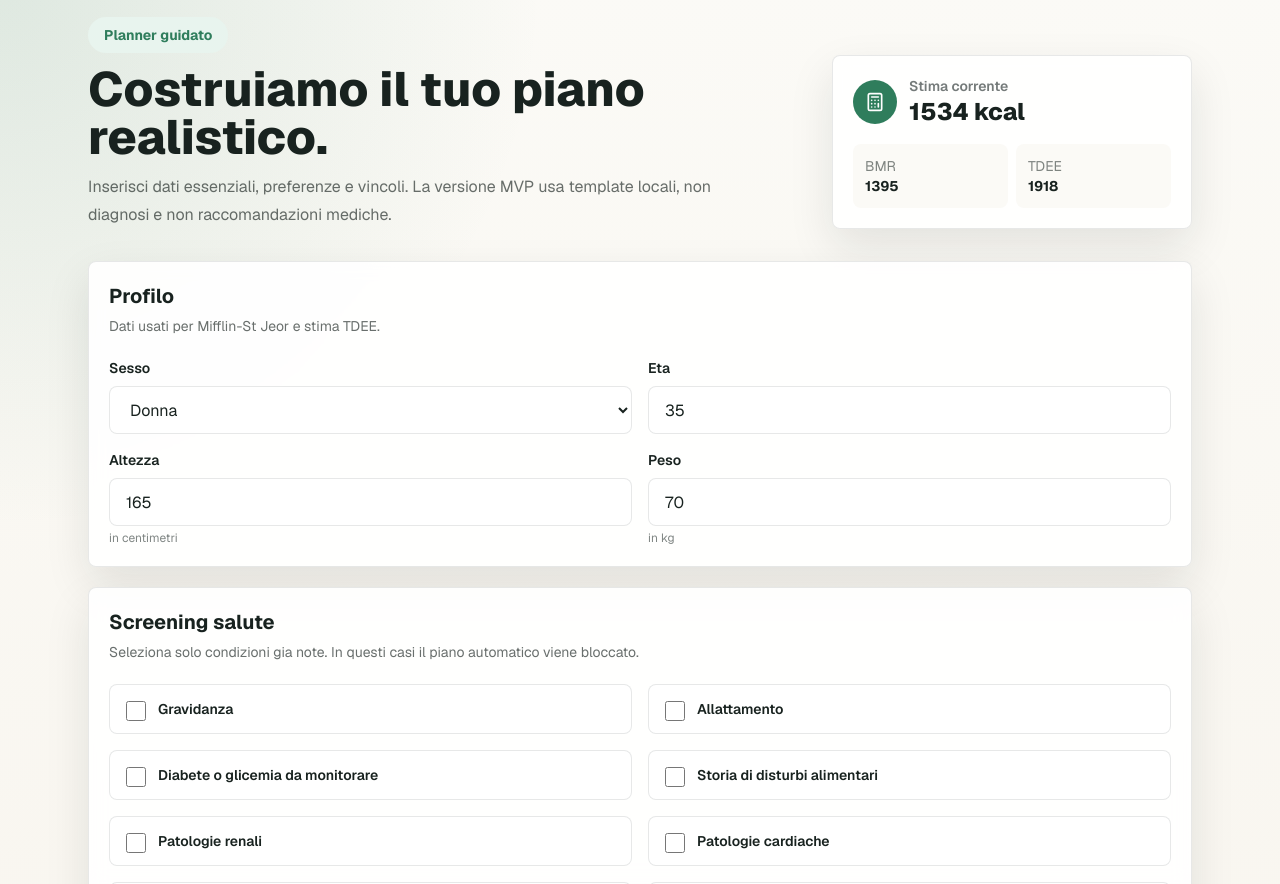
Test: PlannerClient › blocks generation for flagged profiles when the screening mode is block
The image size is (1280, 884).
Expected: the text "il piano automatico viene bloccato" is shown, x1=109 y1=643 x2=639 y2=661
Click the checkbox labelled "Gravidanza" at (136, 711), box x1=126 y1=701 x2=146 y2=721
(page scrolled)
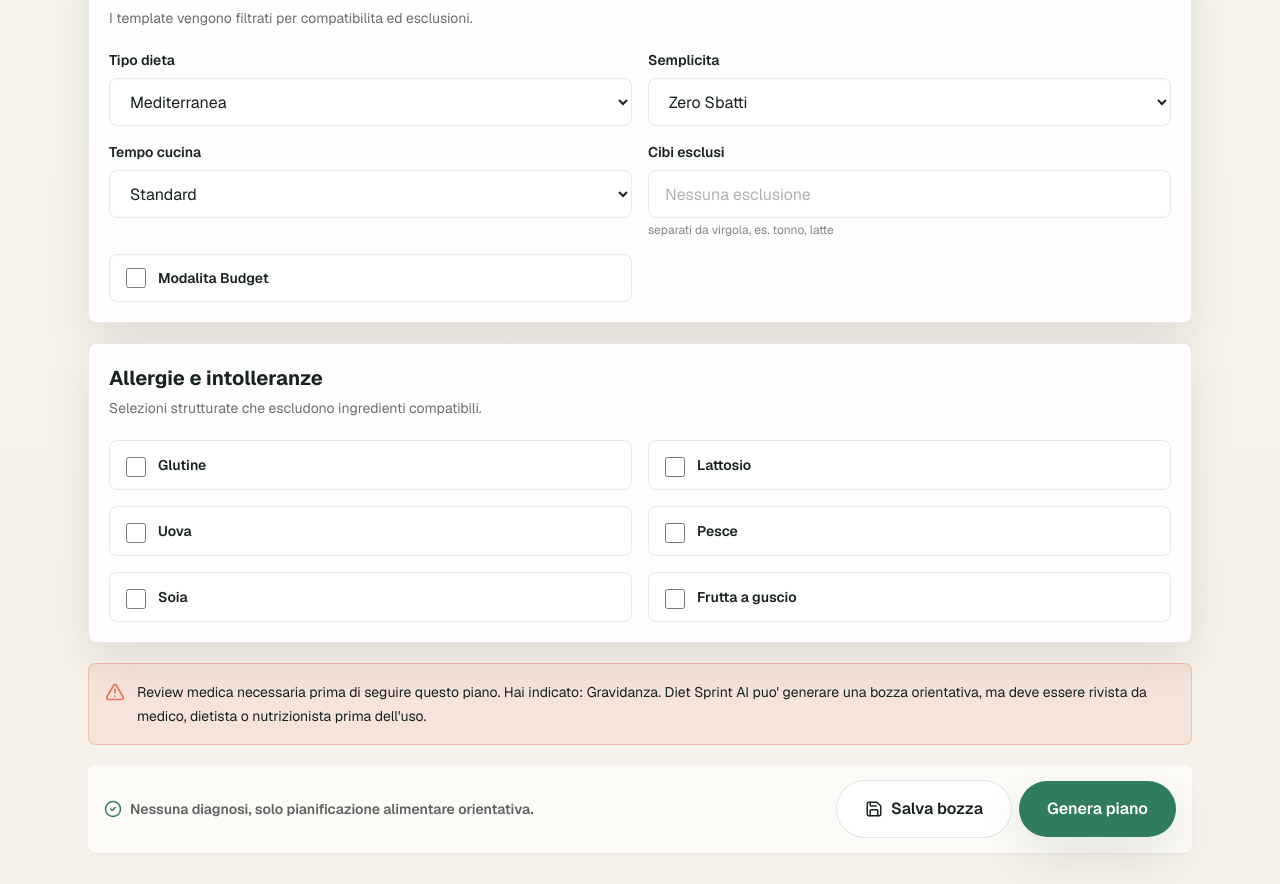
Click the button "Genera piano" at (1098, 809), box x1=1019 y1=781 x2=1176 y2=837
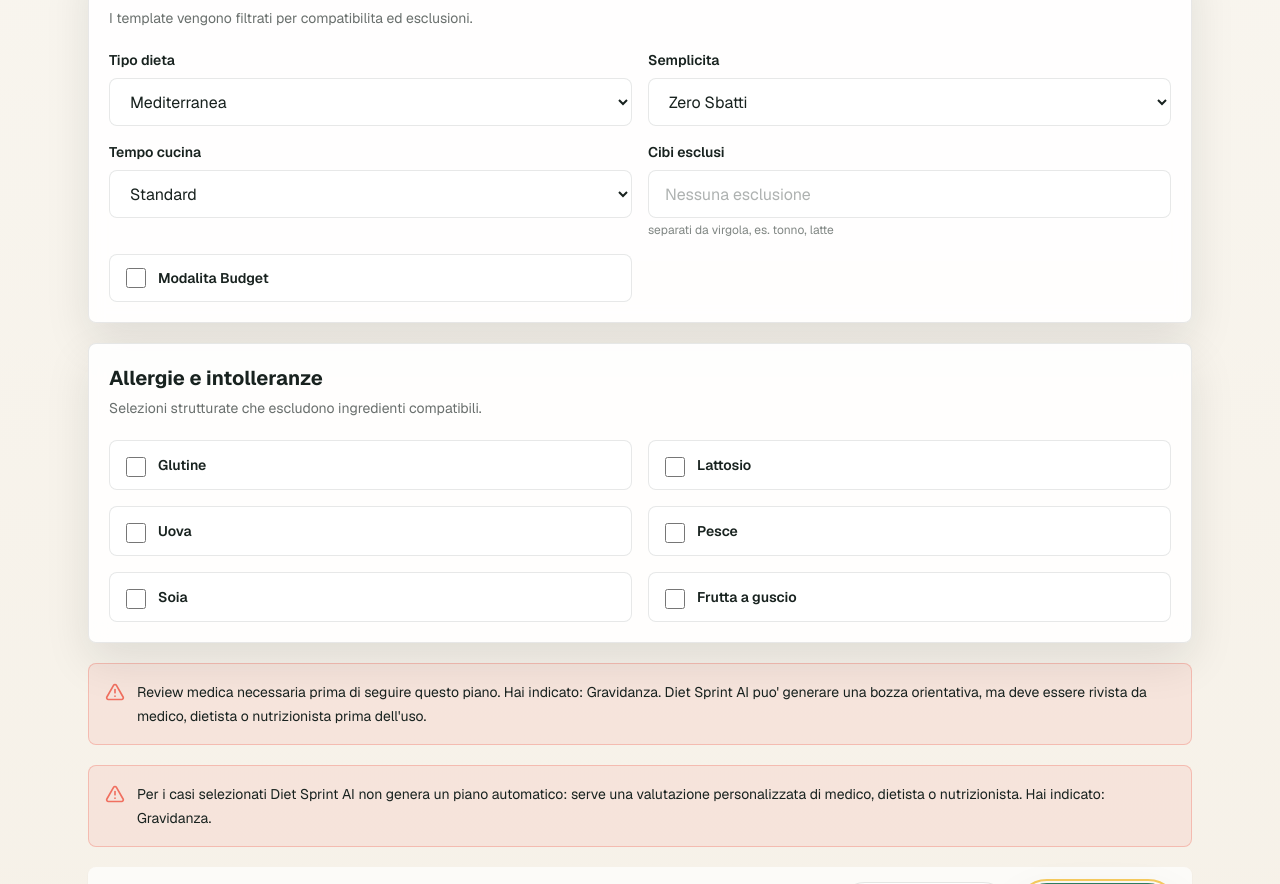
Expected: the text "non genera un piano automatico" is shown, x1=137 y1=785 x2=1105 y2=827
